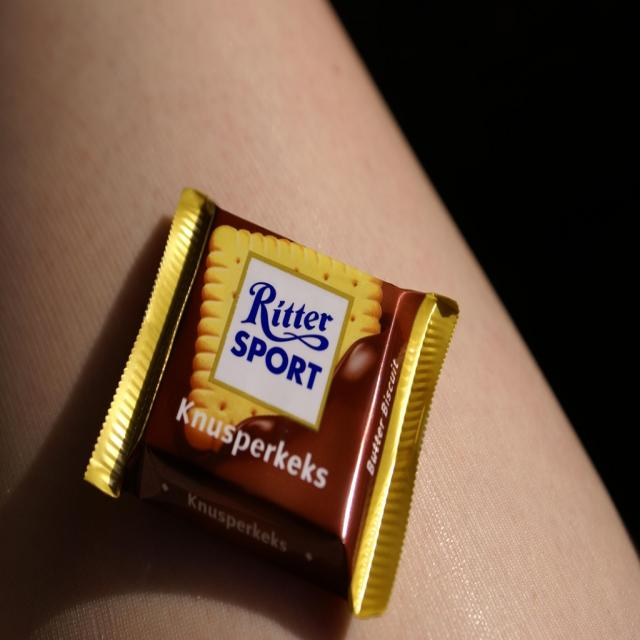rittersport: (211, 254, 350, 426)
